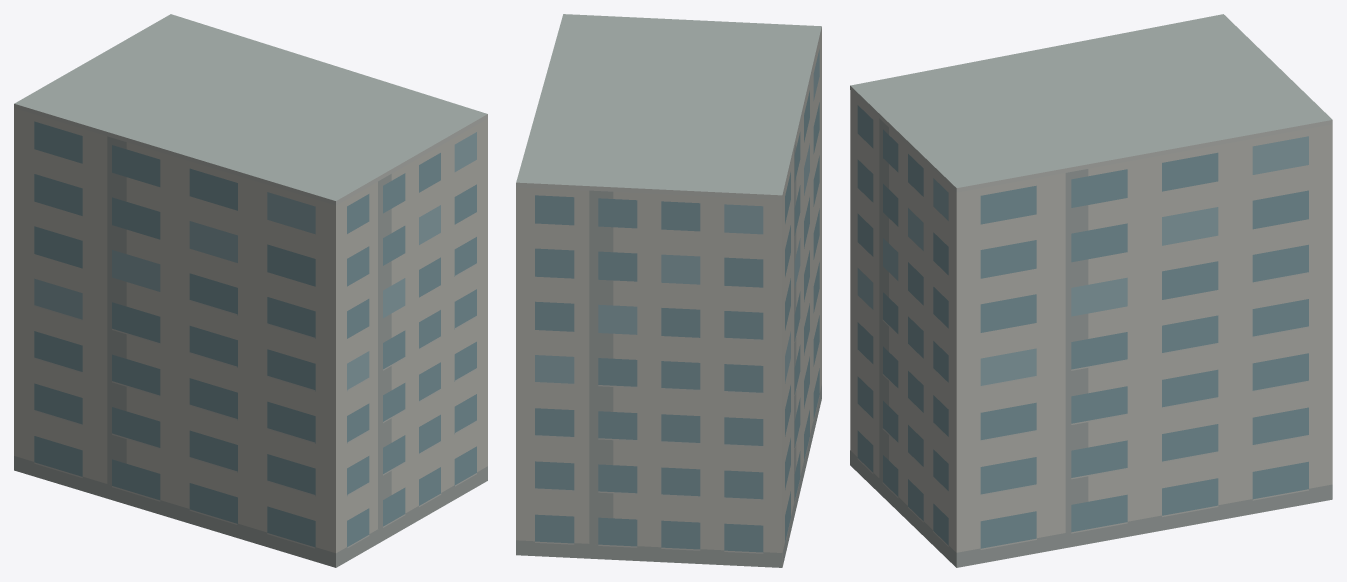
File: survey-upis-32929082.glb
3 renders of one model, left to right at view 1: azimuth 30°, elevation 25°; view 2: azimuth 150°, elevation 25°; view 3: azimuth 270°, elevation 25°, orthographic. The views are drawn at different scales.
Visible parts, largest first — view 1: survey-upis-32929082.tmp; view 2: survey-upis-32929082.tmp; view 3: survey-upis-32929082.tmp.
Boxes of the visible parts, box(x1,y1,x2,y2) form: survey-upis-32929082.tmp: box(14, 14, 487, 567); survey-upis-32929082.tmp: box(516, 14, 821, 567); survey-upis-32929082.tmp: box(850, 14, 1332, 567).
Size of the model in its own units: 19.98 by 20.3 by 23.39.
